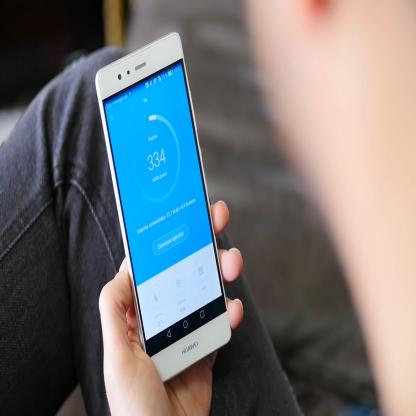smartphone: (94, 28, 232, 386)
